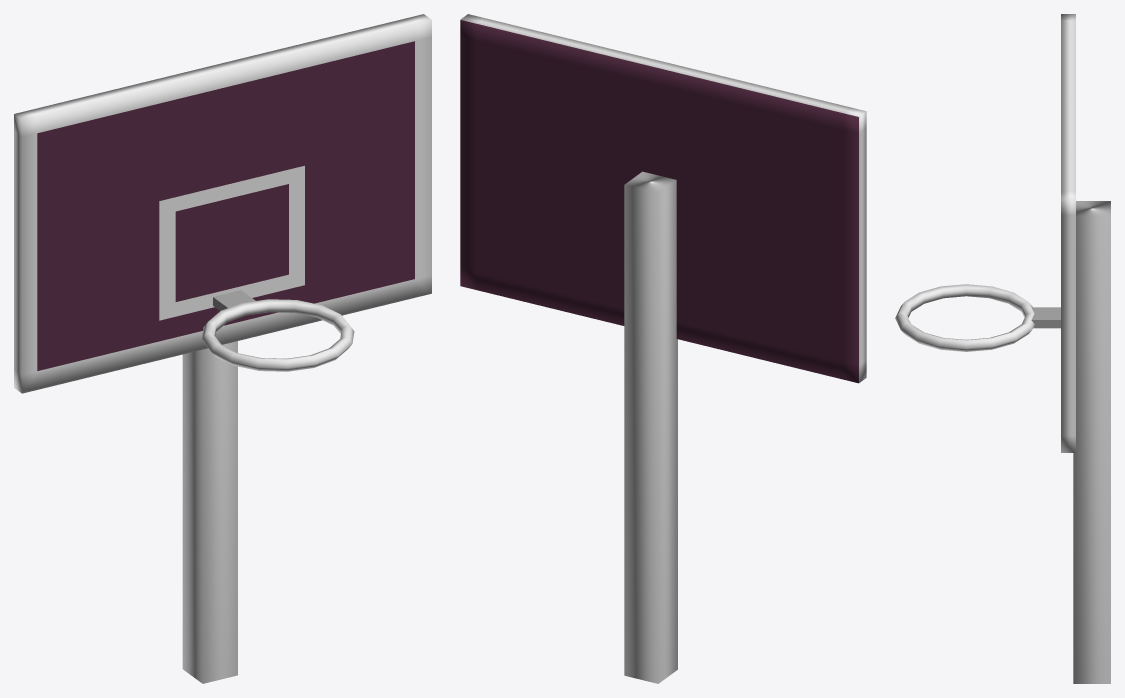
Rendered from solo_cancha.fbx.
3 views of the same model, side by side, from view 1: azimuth 30°, elevation 25°; view 2: azimuth 150°, elevation 25°; view 3: azimuth 270°, elevation 25° (orthographic). The views are drawn at different scales.
Visible parts, largest first — view 1: pCube1; view 2: pCube1; view 3: pCube1.
Boxes of the visible parts, x1=… form: pCube1: x1=14, y1=14, x2=431, y2=683; pCube1: x1=460, y1=14, x2=866, y2=683; pCube1: x1=895, y1=14, x2=1110, y2=683.
Size of what is drawn, in the model's own units: 10.01 by 14.35 by 4.93.
